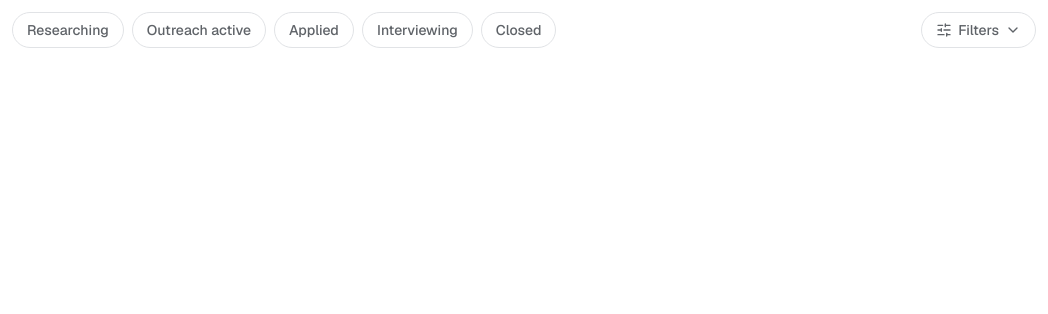
it: Companies filter bar: contact presence › reports the selected value to the page and counts as one active filter
The width and height of the screenshot is (1048, 314).
Click the button "Filters": (979, 30) [921,12,1036,48]
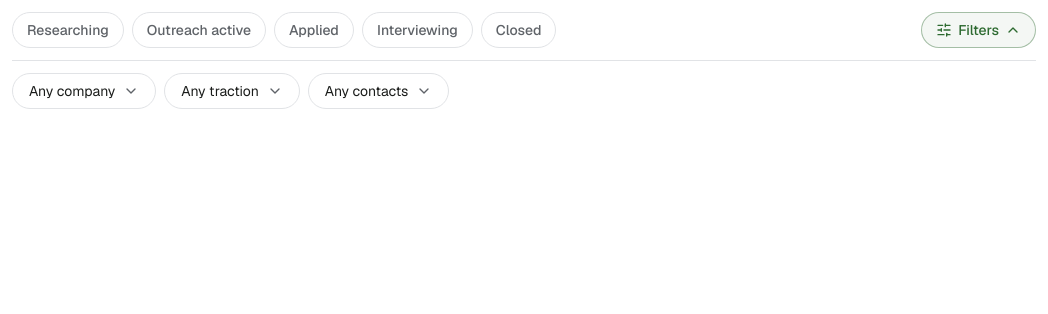
Click the dropdown named "Filter by contacts": (379, 91) [308,73,449,109]
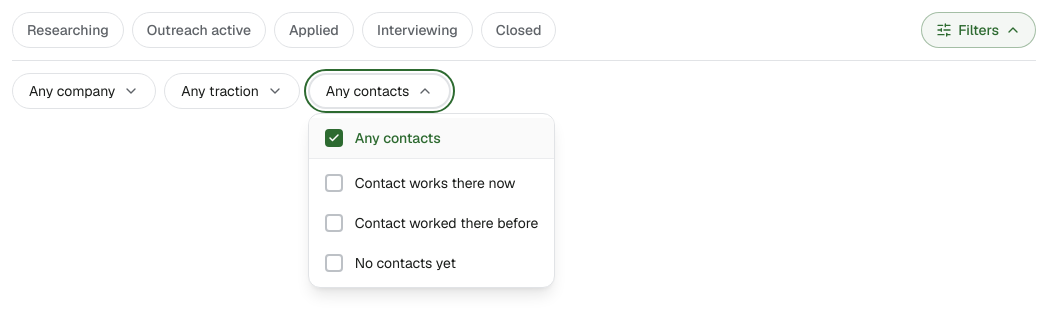
Click the option "Contact worked there before": (432, 223) [325,214,538,232]
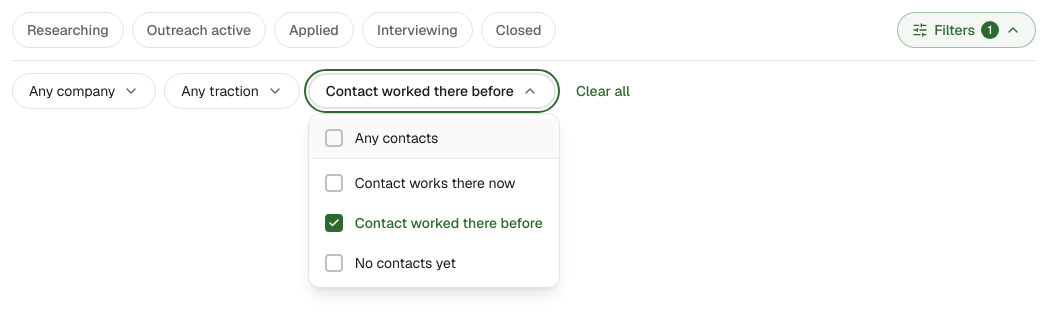
Check: the button "Filters 1" is shown, box [897,12,1036,48]
